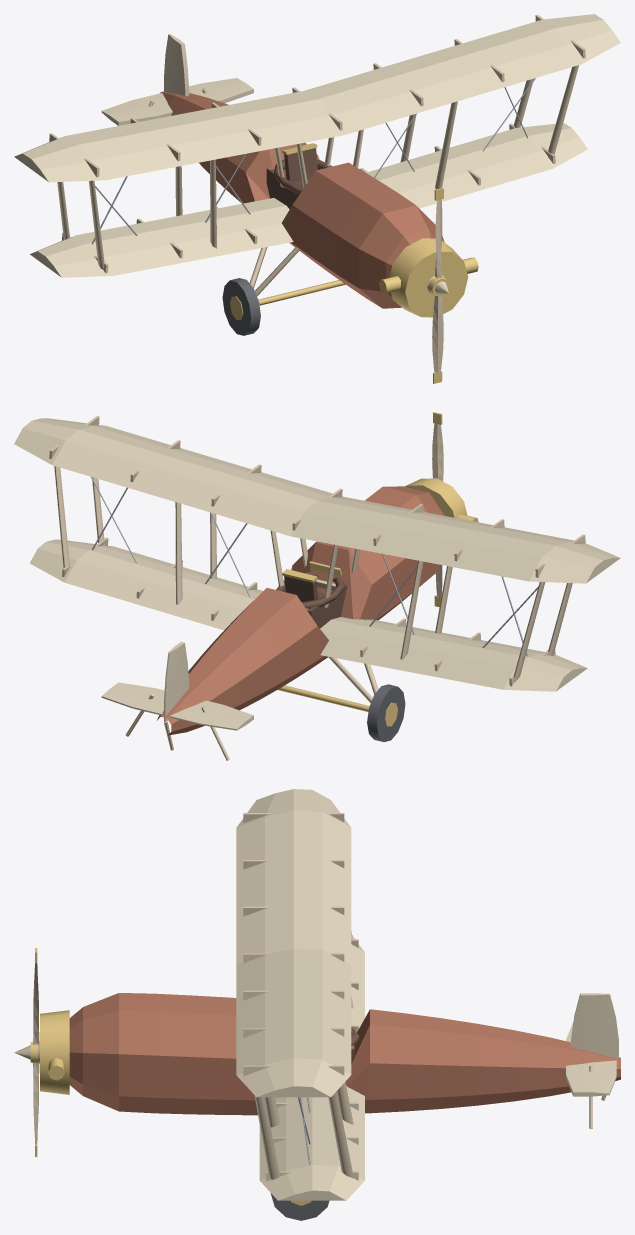
File: biplane_scout_mahogany.gltf
The picture shows the model from 3 angles, top to bottom: view 1: azimuth 30°, elevation 25°; view 2: azimuth 150°, elevation 25°; view 3: azimuth 270°, elevation 25°; orthographic projection. The views are drawn at different scales.
Parts seen in each view (by area): view 1: Upper_Wing, Lower_Wing, Wooden_Fuselage, Wing_Struts, object 2, Tail_Empennage, Landing_Gear, Rigging_Wires, object 7, object 9; view 2: Upper_Wing, Lower_Wing, Wooden_Fuselage, Wing_Struts, Tail_Empennage, Landing_Gear, Rigging_Wires, object 2, object 9; view 3: Wooden_Fuselage, Upper_Wing, Lower_Wing, Tail_Empennage, Wing_Struts, object 2, Landing_Gear.
Part boxes in pixels (box(x1,y1,x2,y2)): Upper_Wing: box(14, 14, 620, 182); Lower_Wing: box(30, 123, 587, 277); Wooden_Fuselage: box(160, 91, 444, 308); Wing_Struts: box(57, 65, 579, 269); object 2: box(389, 238, 468, 317); Tail_Empennage: box(101, 33, 253, 125); Landing_Gear: box(222, 247, 345, 335); Rigging_Wires: box(91, 78, 535, 244); object 7: box(432, 296, 443, 373); object 9: box(435, 199, 442, 278); Upper_Wing: box(14, 416, 620, 583); Lower_Wing: box(29, 537, 587, 691); Wooden_Fuselage: box(157, 486, 444, 735); Wing_Struts: box(54, 466, 572, 682); Tail_Empennage: box(101, 642, 253, 760); Landing_Gear: box(164, 656, 405, 750); Rigging_Wires: box(91, 477, 538, 656); object 2: box(405, 478, 467, 518); object 9: box(432, 423, 443, 481); Wooden_Fuselage: box(69, 993, 620, 1115); Upper_Wing: box(236, 789, 351, 1097); Lower_Wing: box(259, 935, 364, 1200); Tail_Empennage: box(566, 993, 618, 1128); Wing_Struts: box(254, 931, 353, 1179); object 2: box(40, 1010, 69, 1094); Landing_Gear: box(270, 1095, 606, 1220).
Size of the model in its own units: 3.8 by 1.47 by 3.28.
